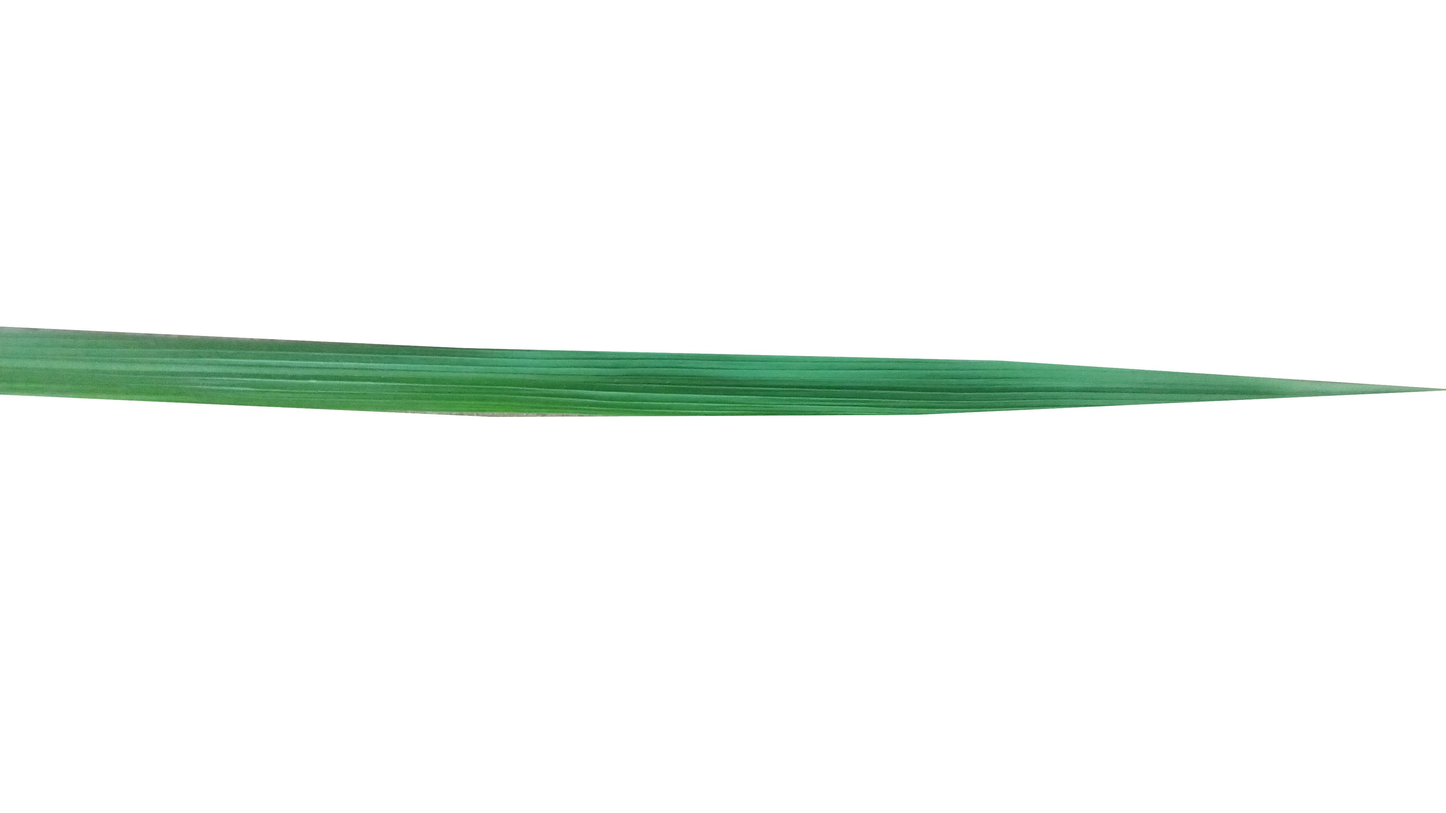Healthy: (0, 329, 1446, 420)
